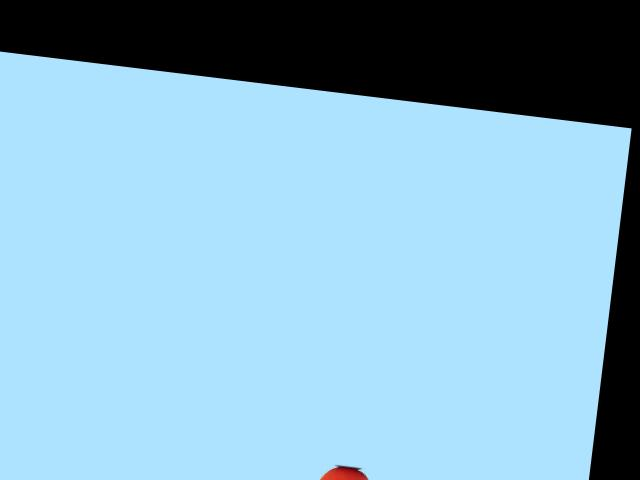tomato: (312, 464, 375, 480)
